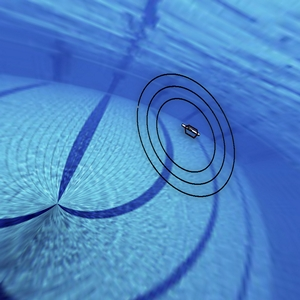circle: (131, 59, 248, 211)
submarine: (175, 116, 203, 151)
